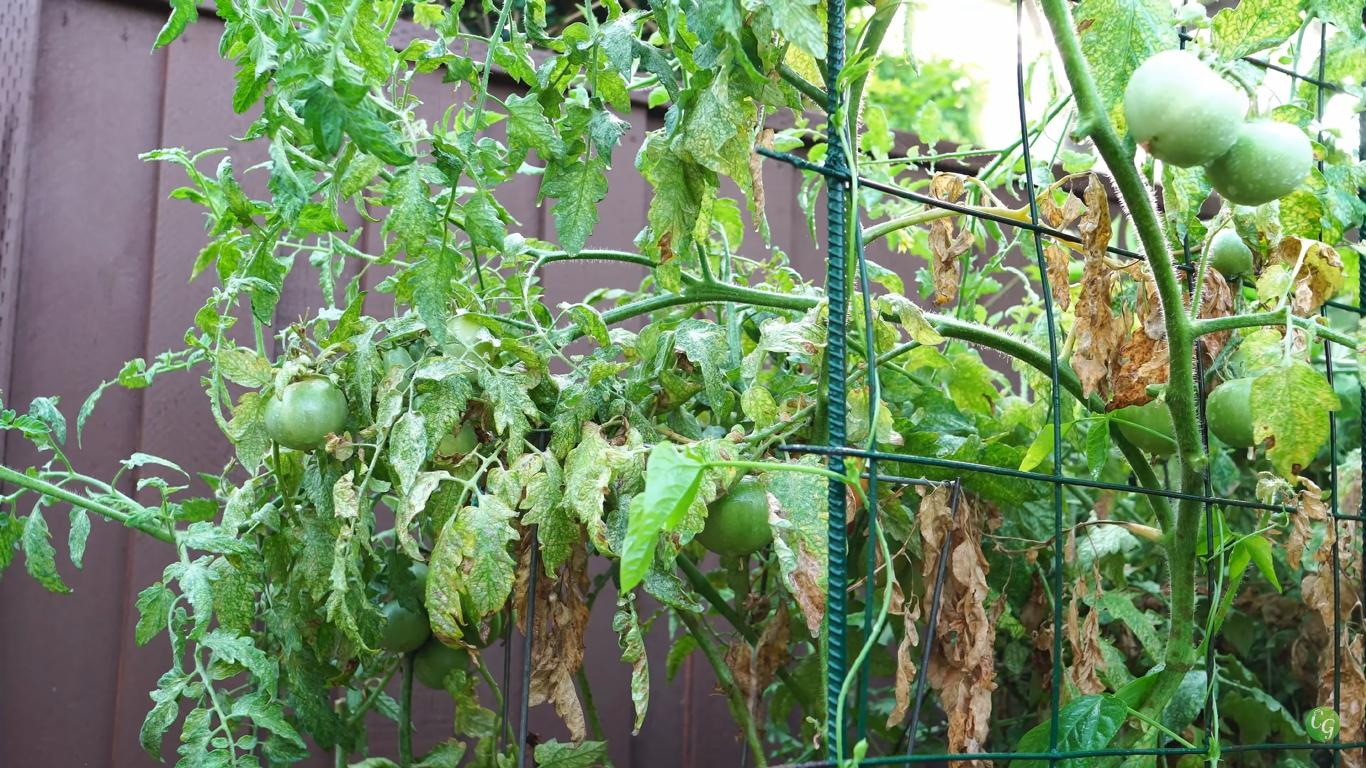Healthy: (1007, 693, 1130, 768)
Spider Mites: (1237, 327, 1342, 488), (1069, 0, 1180, 146), (759, 453, 828, 640), (563, 420, 634, 557), (644, 147, 705, 297), (1268, 103, 1328, 241), (519, 448, 580, 581), (458, 494, 520, 619), (199, 625, 281, 710), (541, 158, 610, 259), (380, 163, 451, 257), (673, 318, 736, 419), (656, 465, 716, 571), (319, 0, 393, 84), (407, 240, 465, 346), (1207, 0, 1309, 60), (323, 556, 382, 655), (424, 515, 467, 649), (394, 469, 451, 562), (485, 373, 540, 466), (18, 506, 75, 595), (684, 86, 739, 178), (612, 608, 650, 737), (231, 689, 309, 751), (416, 374, 474, 457), (139, 667, 187, 764), (208, 555, 265, 636), (164, 559, 220, 640), (504, 91, 566, 160), (758, 0, 828, 61), (290, 510, 335, 603), (225, 389, 271, 478), (876, 292, 948, 348), (246, 244, 287, 329), (550, 391, 598, 459), (390, 409, 427, 497), (464, 191, 510, 256), (134, 580, 178, 647), (642, 568, 705, 613), (182, 520, 258, 555), (343, 348, 375, 427), (565, 299, 612, 352), (532, 737, 609, 768), (218, 345, 274, 387), (174, 706, 211, 768), (602, 19, 636, 83), (77, 378, 106, 449), (303, 462, 339, 518), (266, 602, 304, 651), (596, 69, 634, 114), (68, 504, 93, 572), (740, 383, 777, 428), (634, 318, 662, 362), (376, 364, 405, 403)
